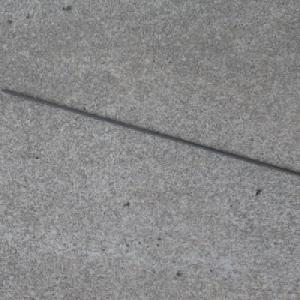LuggagePart: (2, 89, 300, 177)
